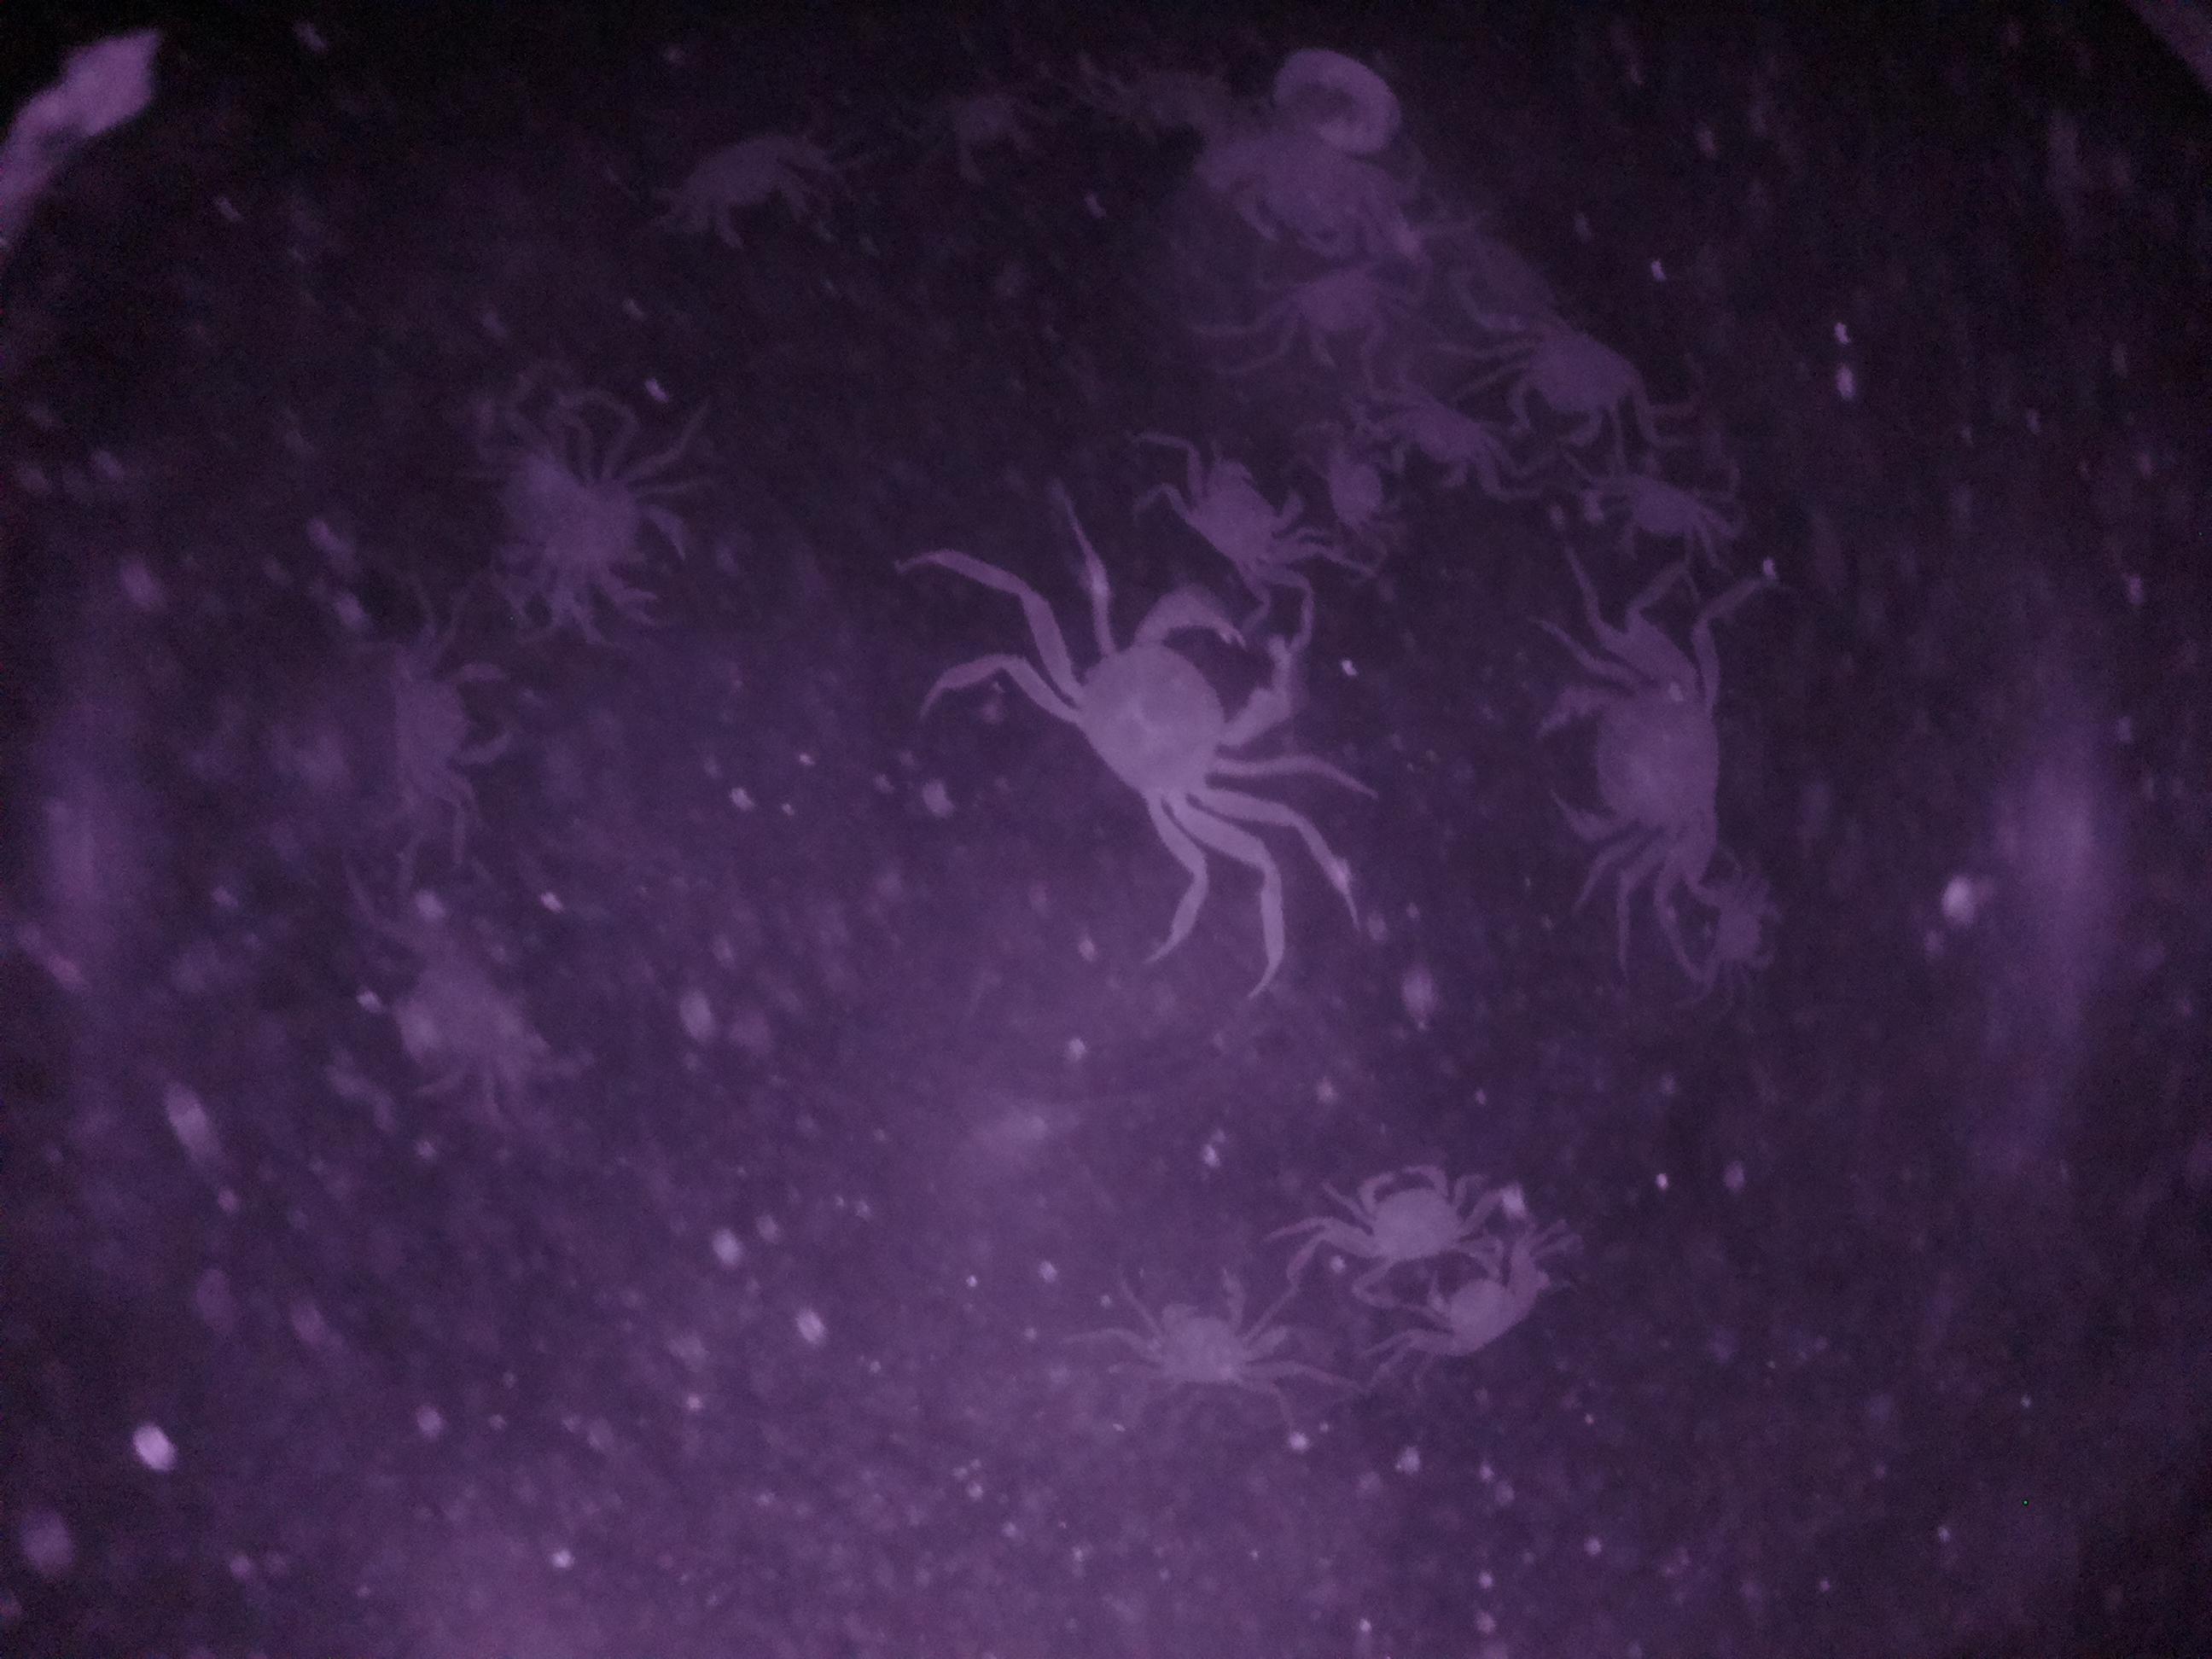Crab: (1021, 591, 1310, 843), (1533, 640, 1743, 889), (1467, 305, 1672, 453), (1169, 436, 1329, 592), (1336, 1154, 1489, 1295), (1123, 1263, 1278, 1403)
